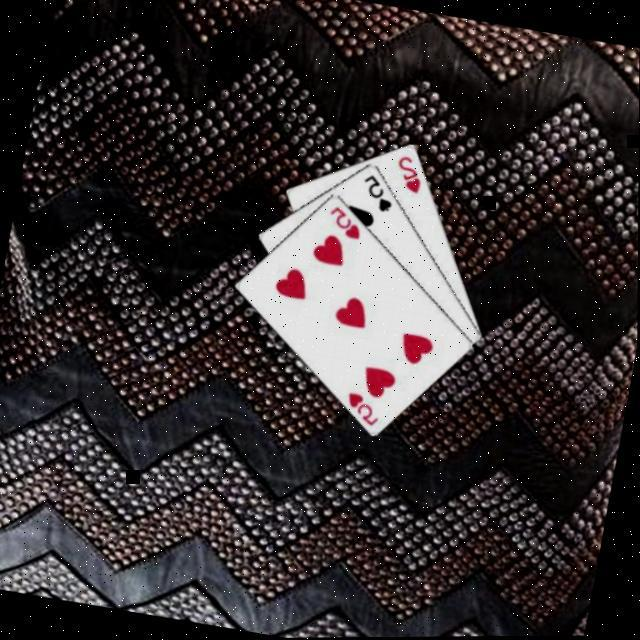2H: (388, 152, 426, 197)
5H: (338, 388, 384, 430), (321, 202, 365, 243)
5S: (354, 170, 397, 216)
